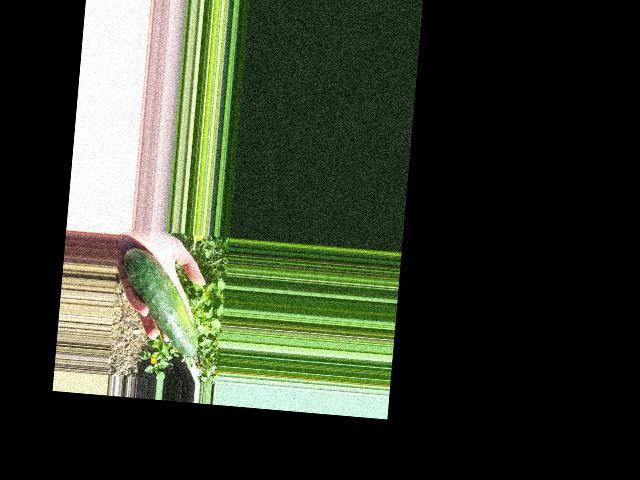cucumber: (116, 248, 205, 358)
